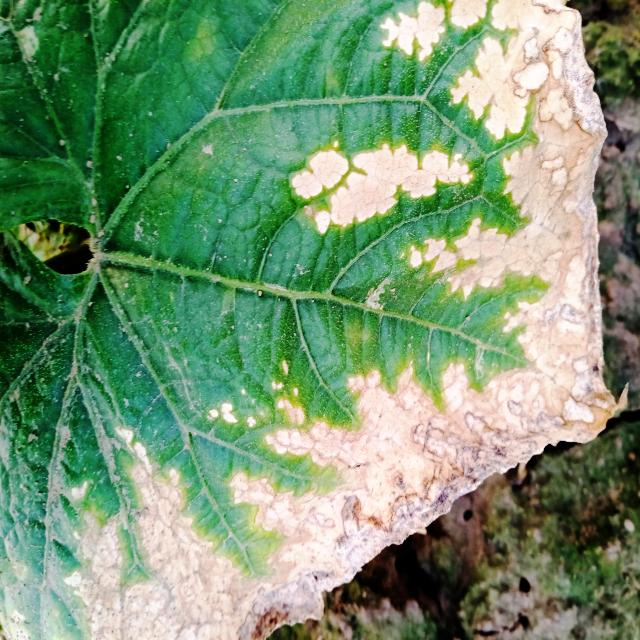Gummy-Stem-Blight: (61, 1, 633, 640)
